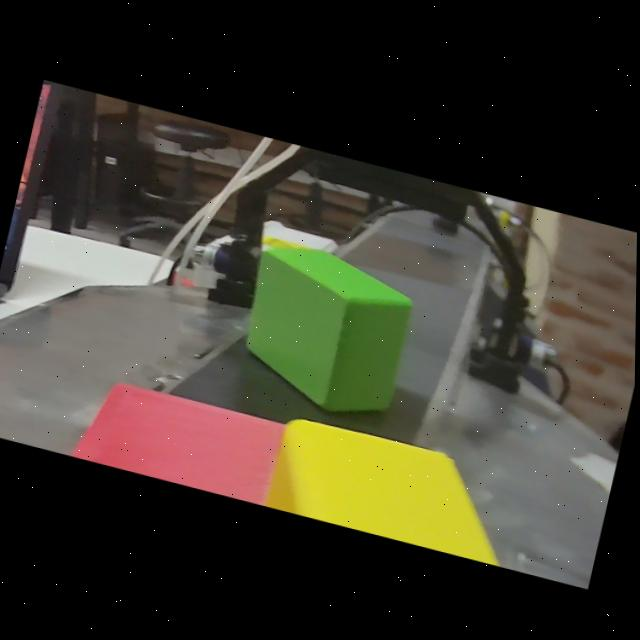greenBox: (219, 222, 433, 431)
redBox: (55, 360, 293, 505)
yellowBox: (255, 390, 565, 571)
